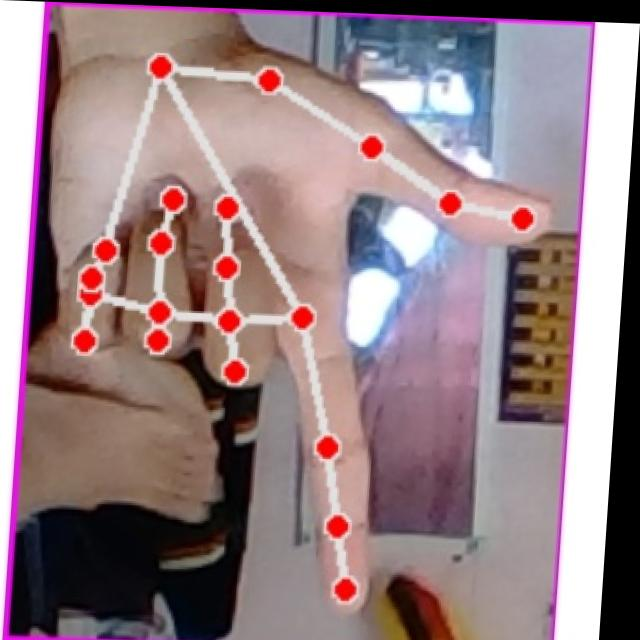L: (24, 29, 576, 628)
